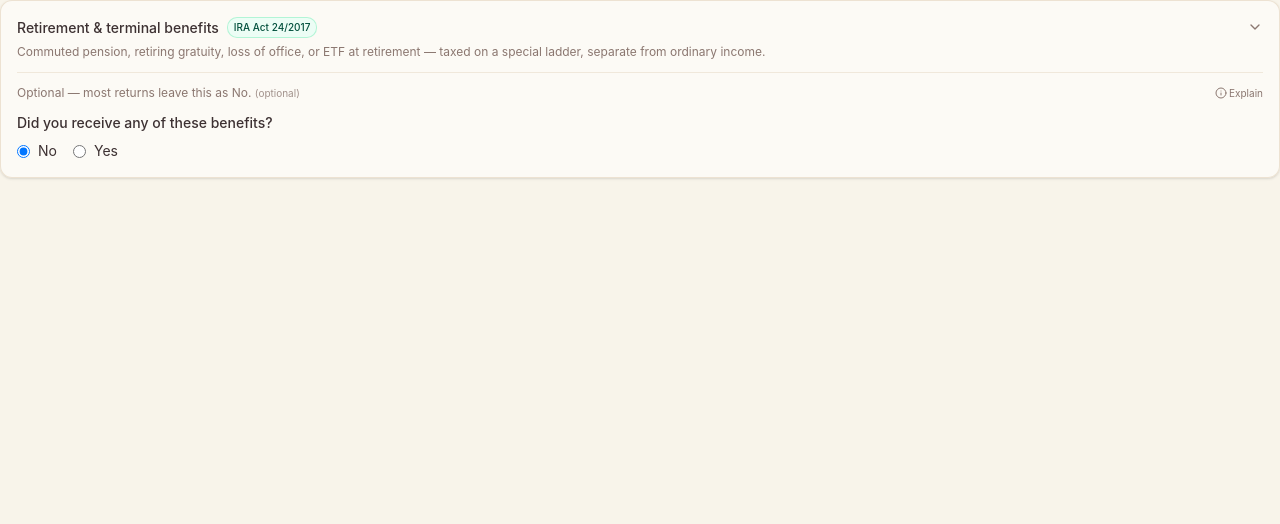
it: TerminalBenefitSection › shows a row on Yes, add/remove, and unique types
Click the radio button labelled "Yes" at [80, 151], box [73,144,86,158]
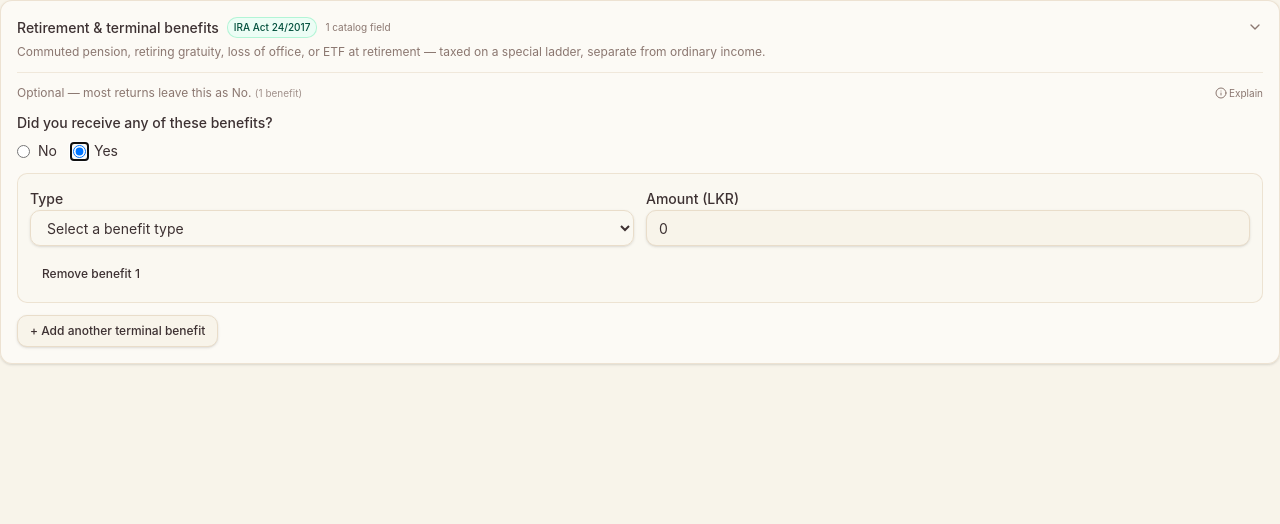
Expected: the dropdown labelled "Type" is shown
Select "Retiring gratuity" in the dropdown labelled "Type" at [332, 228], box [30,210,634,246]
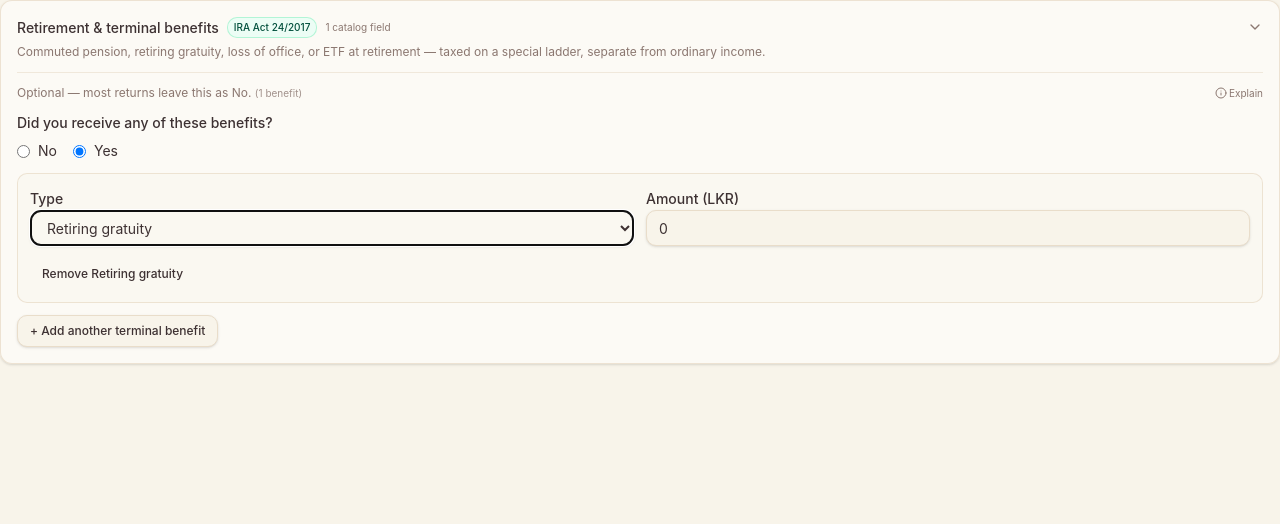
Click the button "+ Add another terminal benefit" at [118, 331], box [17,315,218,347]
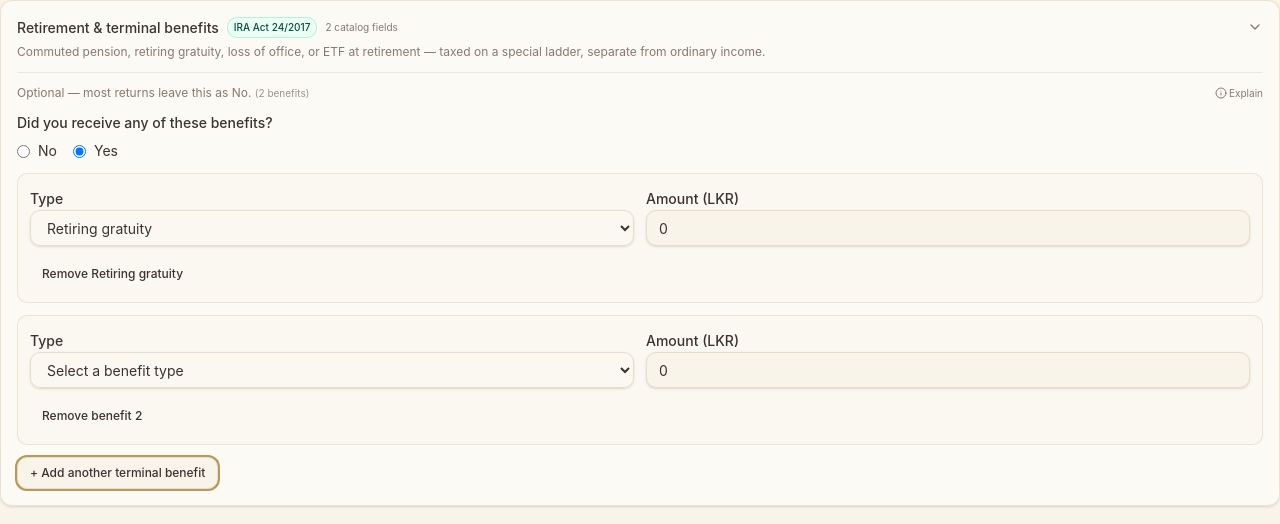
Expected: the number of dropdowns labelled "Type" is 2, [30,210,634,246]; [30,352,634,388]
Click the button "Remove Retiring gratuity" at [112, 274], box [30,258,195,290]
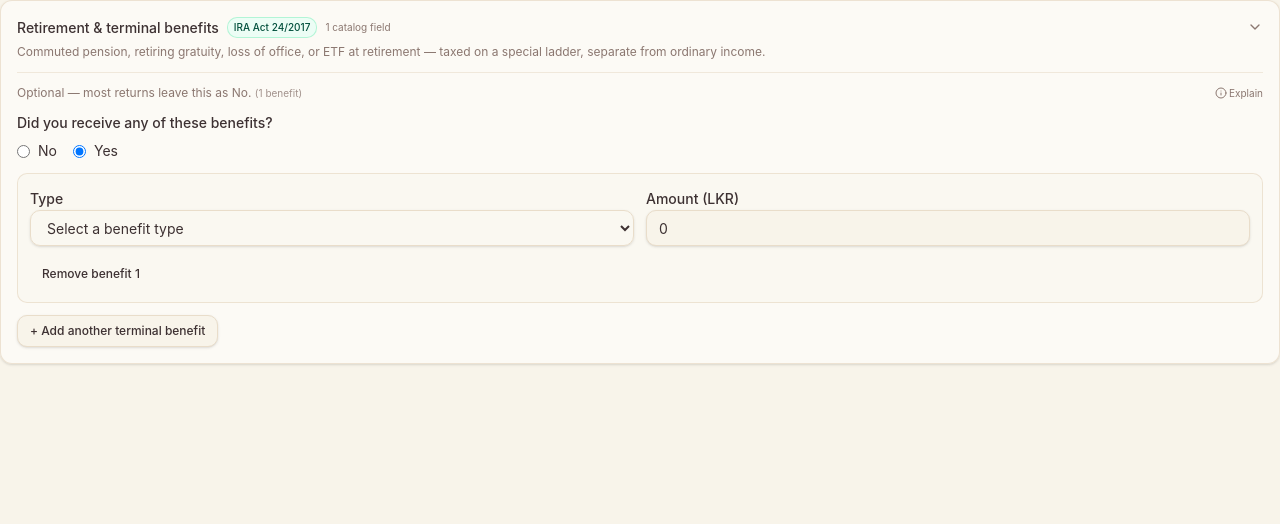
Expected: the number of dropdowns labelled "Type" is 1, [30,210,634,246]
Click the button "Remove benefit 1" at [91, 274], box [30,258,152,290]
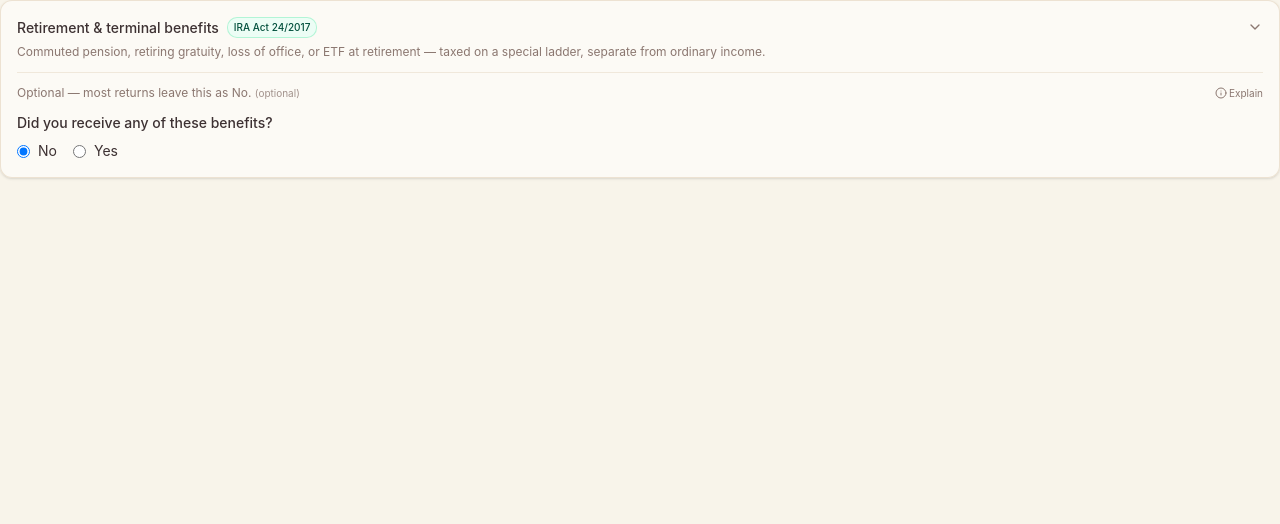
Expected: the radio button labelled "No" is checked, [17,144,30,158]
Expected: the label labelled "Type" is gone
